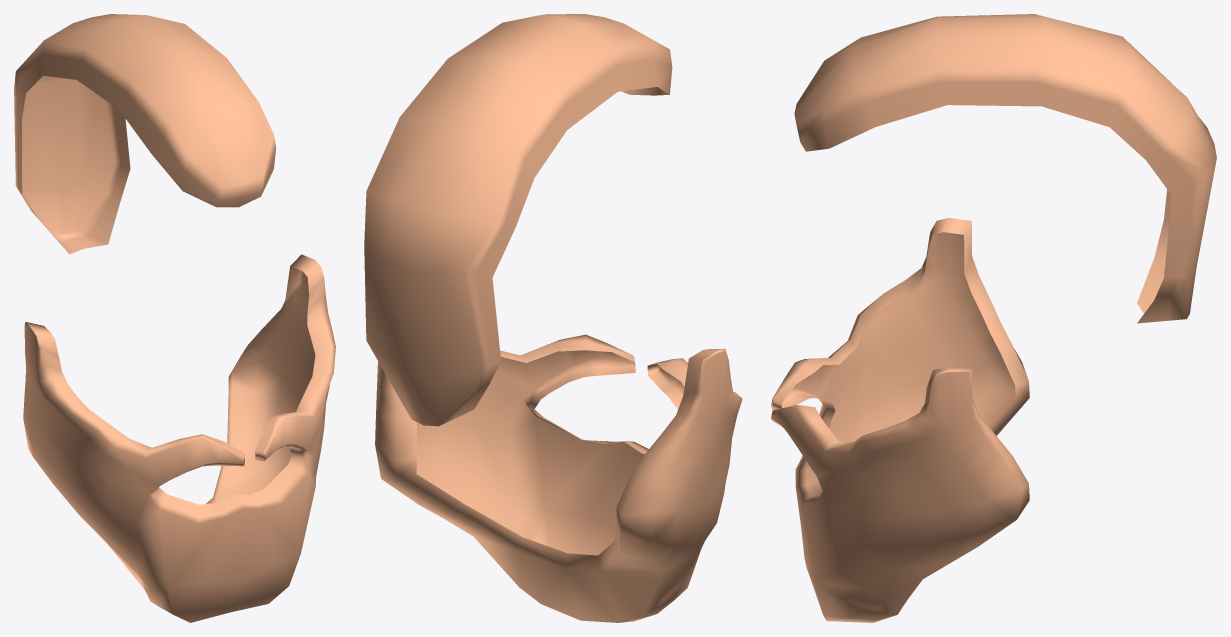
Rendered from Beard_Hair_Low.fbx.
3 views of the same model, side by side, from view 1: azimuth 30°, elevation 25°; view 2: azimuth 150°, elevation 25°; view 3: azimuth 270°, elevation 25° (orthographic). The views are drawn at different scales.
Parts seen in each view (by area): view 1: Parta, Tukka; view 2: Parta, Tukka; view 3: Parta, Tukka.
Boxes of the visible parts, x1,y1,x2,y2 form: Parta: (23,254,335,622); Tukka: (14,14,275,254); Parta: (375,334,742,622); Tukka: (364,14,672,426); Parta: (771,218,1029,622); Tukka: (794,14,1216,323).
Bounding box in the file's own units: 17.9 × 31.46 × 21.94.
